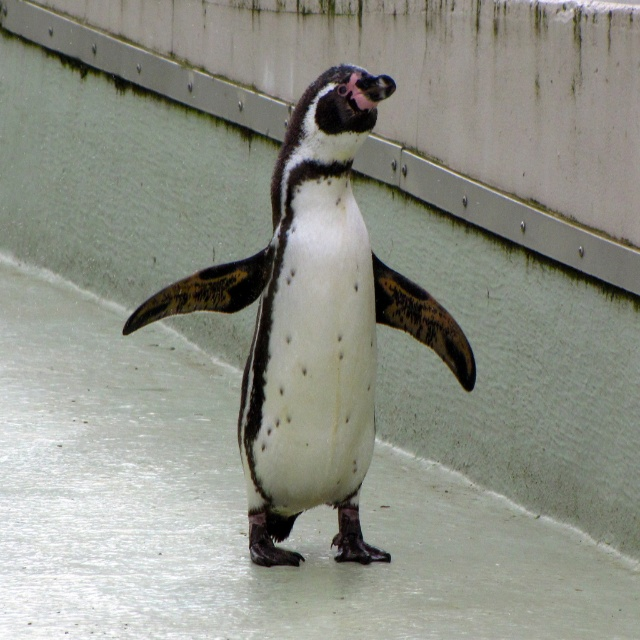Penguin: (122, 63, 476, 566)
